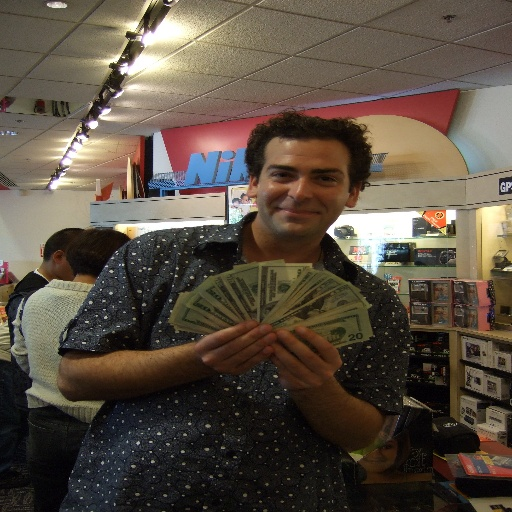hand: (261, 316, 358, 397), (194, 318, 281, 376)
